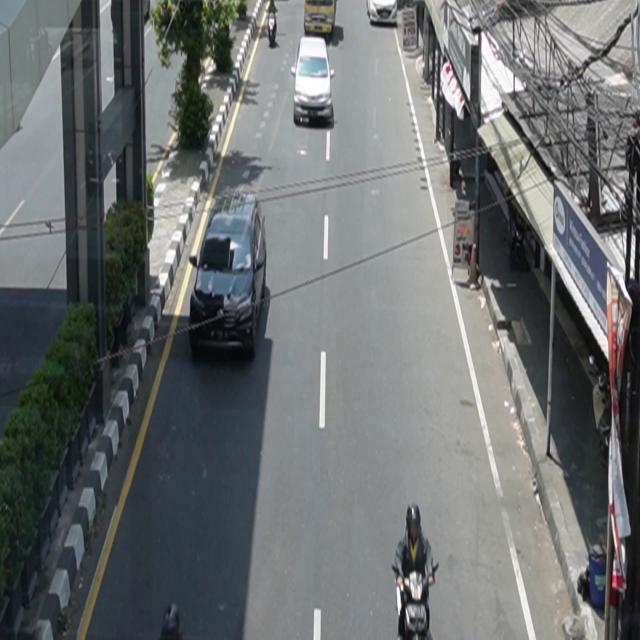car: (189, 186, 268, 360), (291, 36, 336, 127), (304, 1, 338, 38), (367, 1, 398, 26)
